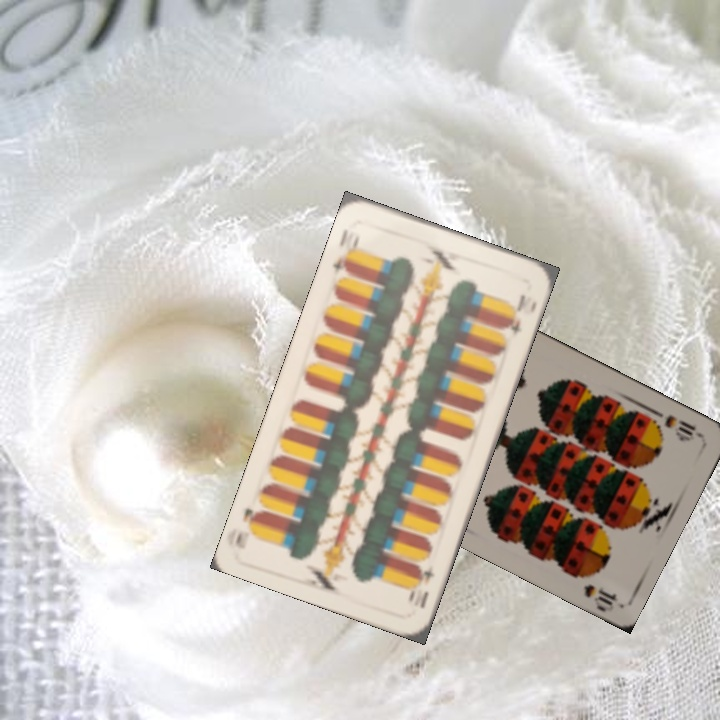E10: (328, 225, 362, 277), (404, 562, 437, 604)
S10: (660, 410, 703, 444)
